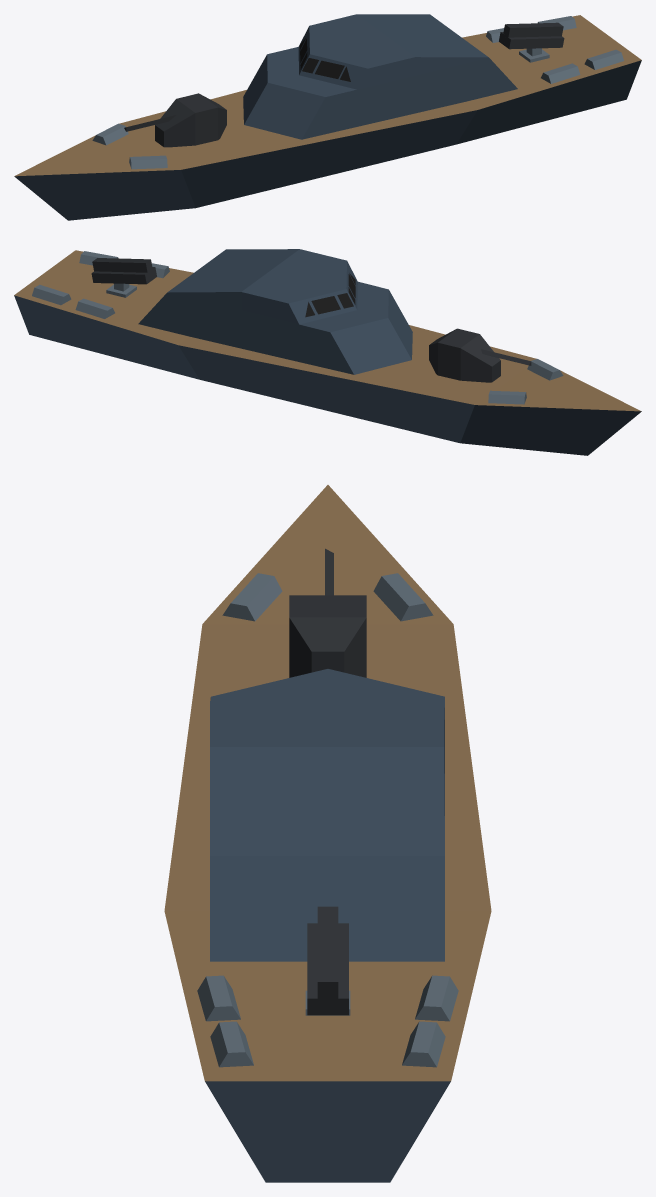
File: Shipboat2.fbx
3 renders of one model, top to bottom at view 1: azimuth 30°, elevation 25°; view 2: azimuth 150°, elevation 25°; view 3: azimuth 270°, elevation 25°, orthographic. The views are drawn at different scales.
Visible parts, largest first — view 1: Ship_platform, Base, GunBase, Box, Torped, Glass, TorpedBase; view 2: Ship_platform, Base, GunBase, Box, Torped, Glass, TorpedBase; view 3: Ship_platform, Base, Box, GunBase, Torped.
Part boxes in pixels (x1=…): Ship_platform: x1=14, y1=15, x2=641, y2=220; Base: x1=243, y1=14, x2=517, y2=139; GunBase: x1=155, y1=93, x2=226, y2=147; Box: x1=92, y1=16, x2=623, y2=169; Torped: x1=499, y1=22, x2=564, y2=49; Glass: x1=300, y1=38, x2=350, y2=81; TorpedBase: x1=519, y1=48, x2=549, y2=62; Ship_platform: x1=14, y1=250, x2=641, y2=455; Base: x1=138, y1=249, x2=412, y2=374; GunBase: x1=429, y1=328, x2=500, y2=382; Box: x1=32, y1=251, x2=563, y2=404; Torped: x1=91, y1=258, x2=156, y2=284; Glass: x1=305, y1=273, x2=355, y2=317; TorpedBase: x1=106, y1=283, x2=136, y2=297; Ship_platform: x1=164, y1=485, x2=491, y2=1182; Base: x1=210, y1=669, x2=444, y2=961; Box: x1=197, y1=573, x2=458, y2=1067; GunBase: x1=289, y1=595, x2=366, y2=677; Torped: x1=307, y1=906, x2=348, y2=1015.
Bounding box in the file's own units: 1832 × 316 × 435.
